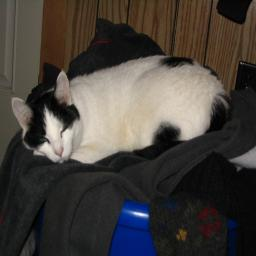catnose: (54, 146, 64, 157)
